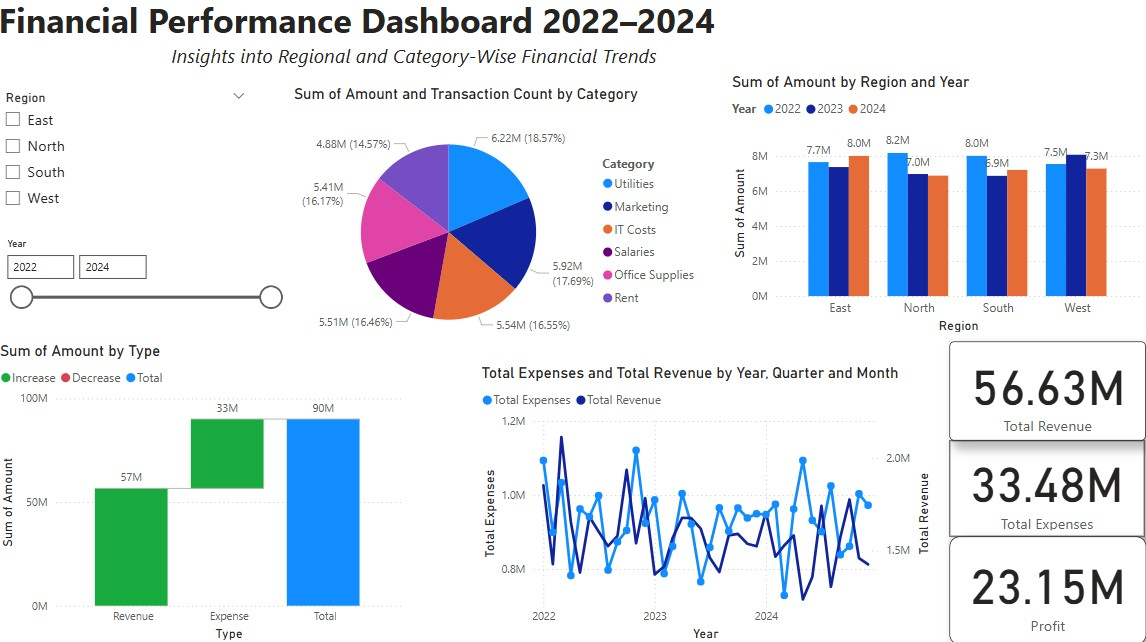

This screenshot's page, from the dashboard's own definition file:
{"tool":"powerbi","page":{"name":"Page 1","canvas":[1280,720],"ordinal":0},"visuals":[{"type":"card","fields":{"Values":["FinancialData.Total Expenses"]},"box":[1054.5,495.1,215.4,105.8],"z":0},{"type":"card","fields":{"Values":["FinancialData.Total Revenue"]},"box":[1055.2,386,217,109.3],"z":1000},{"type":"card","fields":{"Values":["FinancialData.Profit"]},"box":[1054.5,600.9,217.3,119.1],"z":2000},{"type":"clusteredColumnChart","fields":{"Y":["Sum(FinancialData.Amount)"],"Category":["FinancialData.Region"],"Series":["Calendar.Date.Variation.Date Hierarchy.Year"]},"box":[810.7,88.8,461.1,291],"z":3000},{"type":"pieChart","fields":{"Category":["FinancialData.Category"],"Y":["Sum(FinancialData.Amount)"]},"box":[326.3,102.7,460.5,304.8],"z":4000},{"type":"waterfallChart","fields":{"Category":["FinancialData.Type"],"Y":["Sum(FinancialData.Amount)"]},"box":[1.9,385.5,453.5,334.5],"z":5000},{"type":"lineChart","fields":{"Y":["FinancialData.Total Expenses"],"Y2":["FinancialData.Total Revenue"],"Category":["Calendar.Date.Variation.Date Hierarchy.Year","Calendar.Date.Variation.Date Hierarchy.Quarter","Calendar.Date.Variation.Date Hierarchy.Month"]},"box":[532.9,410.1,504.6,309.9],"z":6000},{"type":"slicer","fields":{"Values":["Calendar.Date.Variation.Date Hierarchy.Year"]},"box":[1.9,266.5,325,113.4],"z":7000},{"type":"slicer","fields":{"Values":["FinancialData.Region"]},"box":[0,102,289.1,164.4],"z":8000},{"type":"textbox","box":[0,0,927.6,89.4],"z":9000}]}

Visuals, with their boxes in screenshot pixels (x1, y1, x2, y2), scaled from the page's 1280x720 canvas onto the 1146x642 screenshot:
card - FinancialData.Total Expenses: x1=944, y1=441, x2=1137, y2=536
card - FinancialData.Total Revenue: x1=945, y1=344, x2=1139, y2=442
card - FinancialData.Profit: x1=944, y1=536, x2=1139, y2=641
clusteredColumnChart - Sum(FinancialData.Amount) x FinancialData.Region: x1=726, y1=79, x2=1139, y2=339
pieChart - FinancialData.Category x Sum(FinancialData.Amount): x1=292, y1=92, x2=704, y2=363
waterfallChart - FinancialData.Type x Sum(FinancialData.Amount): x1=2, y1=344, x2=408, y2=641
lineChart - FinancialData.Total Expenses x FinancialData.Total Revenue: x1=477, y1=366, x2=929, y2=641
slicer - Calendar.Date.Variation.Date Hierarchy.Year: x1=2, y1=238, x2=293, y2=339
slicer - FinancialData.Region: x1=0, y1=91, x2=259, y2=238
textbox: x1=0, y1=0, x2=830, y2=80
